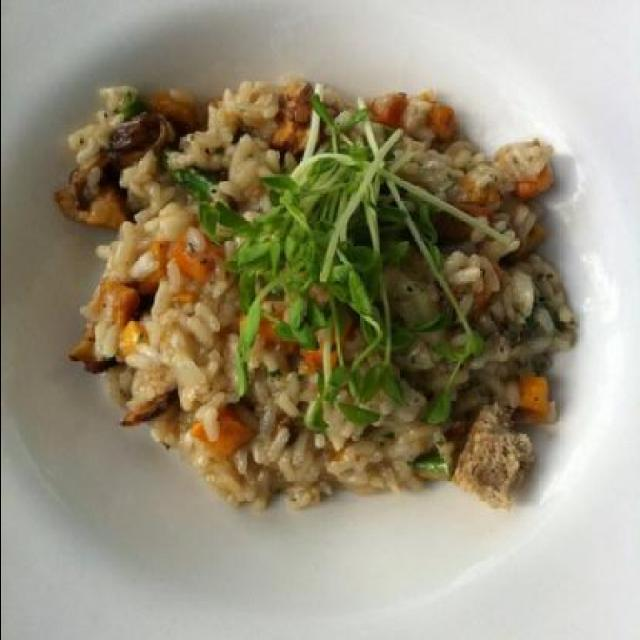Risotto: (26, 38, 590, 486)
